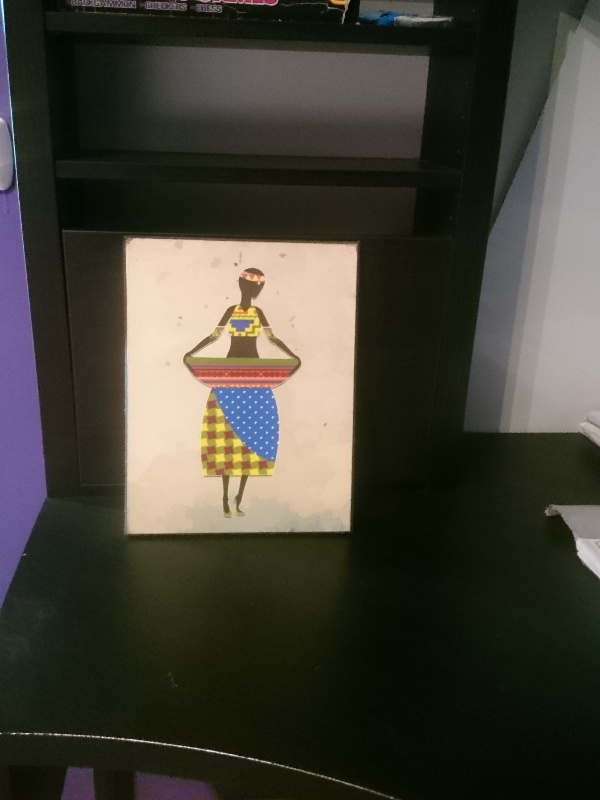my image: (124, 243, 355, 533)
